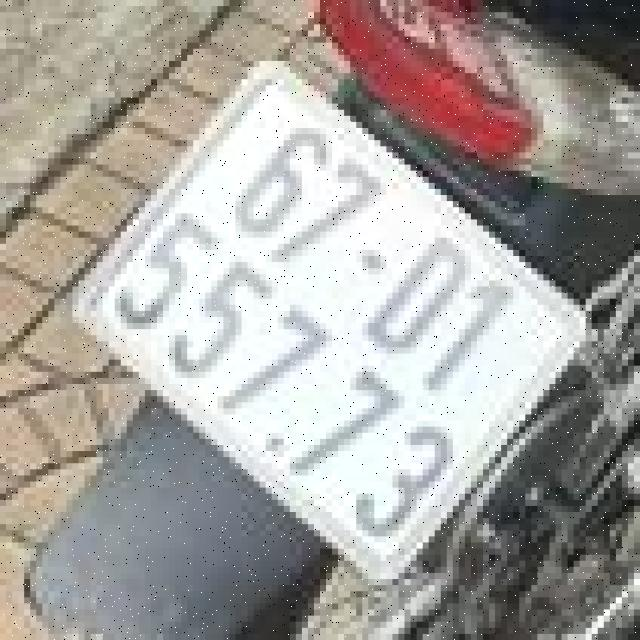1: (405, 272, 533, 406)
3: (339, 422, 462, 560)
5: (99, 197, 228, 358), (154, 236, 283, 396)
6: (224, 118, 344, 253)
7: (270, 358, 423, 504), (203, 290, 341, 437), (257, 156, 395, 284)
D: (340, 223, 480, 383)
